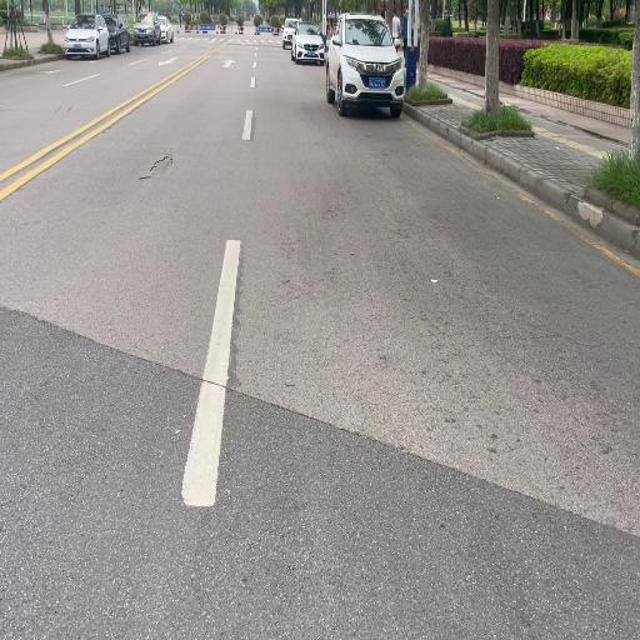Sambungan: (0, 303, 640, 640)
